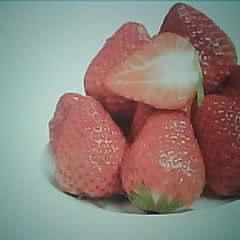straw-ripe: (127, 111, 205, 212), (60, 101, 127, 202)
